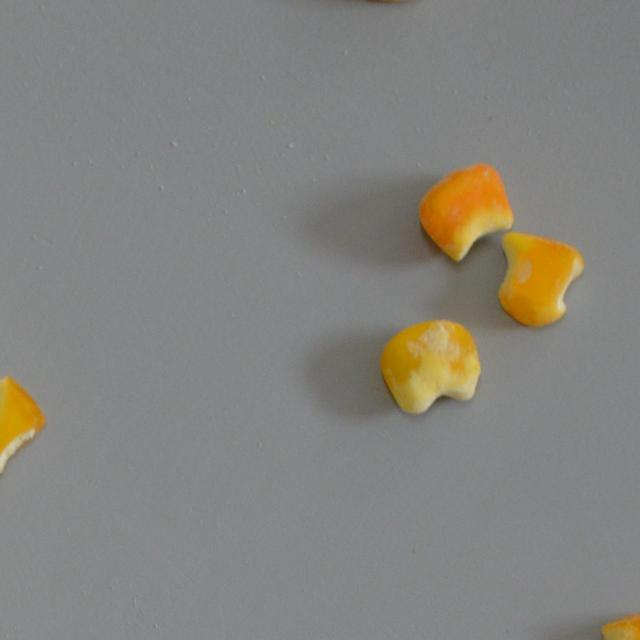dañado: (413, 159, 516, 267), (497, 228, 585, 331), (0, 373, 50, 487), (594, 608, 640, 640)
pelicula: (376, 316, 483, 418)
